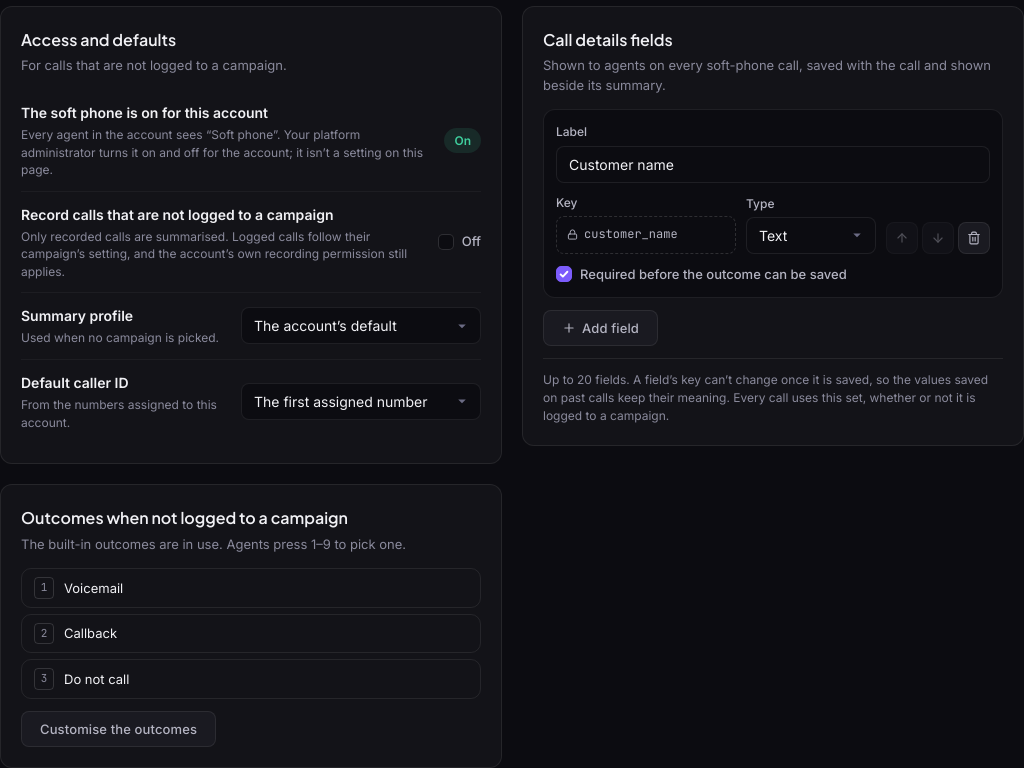
Test: Settings → Soft phone › shows the built-in outcomes when none are set, and the campaign editor once customised
(page scrolled)
Expected: the element with test id "softphone-settings-outcomes" shows "The built-in outcomes are in use", [21, 536, 406, 552]
Click the button with test id "softphone-settings-customise" at point(119, 729), box [21, 711, 216, 747]
(page scrolled)
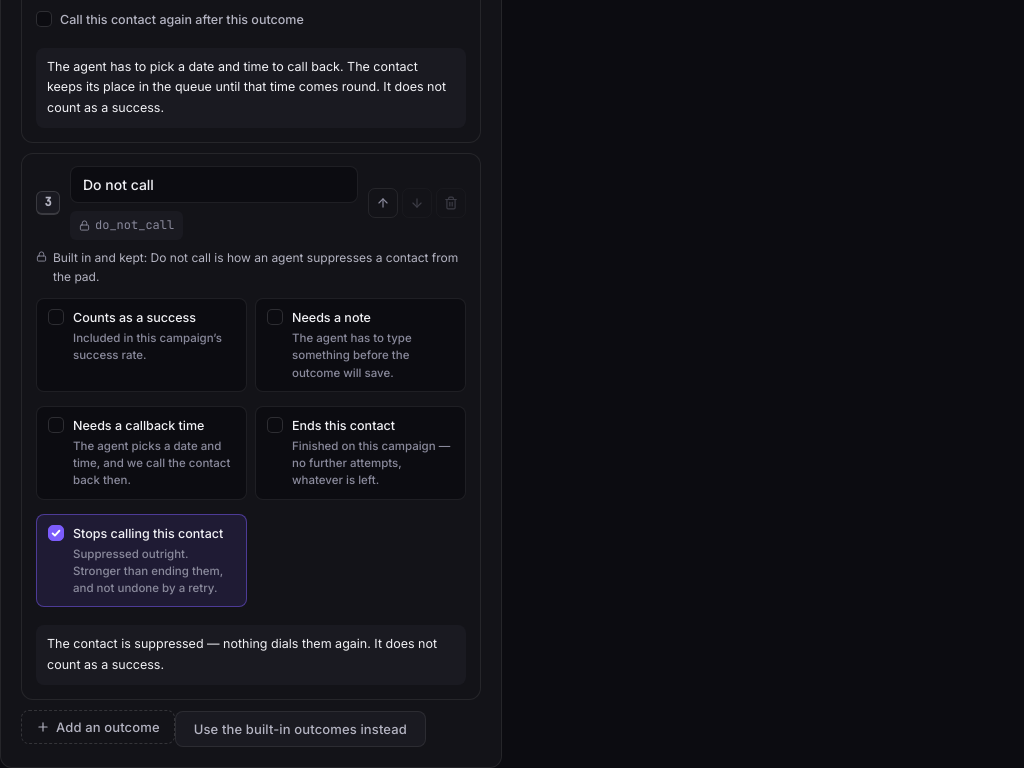
Now the button "Use the built-in outcomes instead" is shown, box [175, 711, 426, 747]
